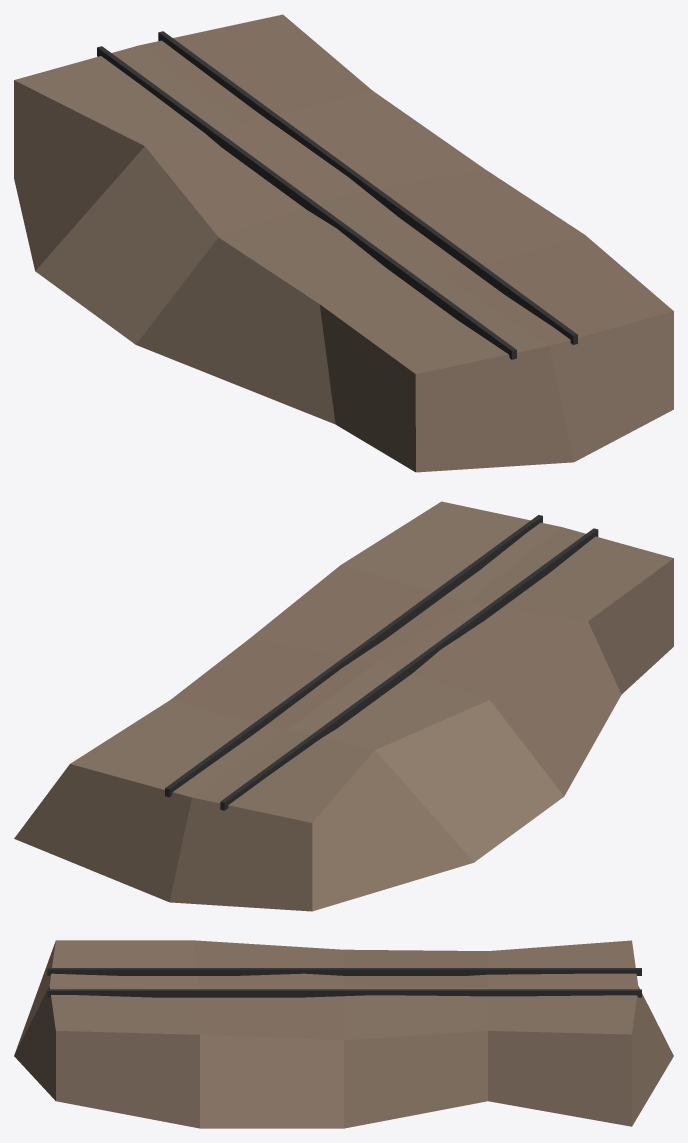
File: PlatformRaw.fbx
The picture shows the model from 3 angles, top to bottom: view 1: azimuth 30°, elevation 25°; view 2: azimuth 150°, elevation 25°; view 3: azimuth 270°, elevation 25°; orthographic projection. The views are drawn at different scales.
Parts seen in each view (by area): view 1: Cube.041; view 2: Cube.041; view 3: Cube.041.
Boxes of the visible parts, box(x1,y1,x2,y2) form: Cube.041: box(14, 14, 673, 472); Cube.041: box(14, 501, 673, 911); Cube.041: box(14, 940, 673, 1128).
Size of the model in its own units: 97.02 by 23.41 by 186.
